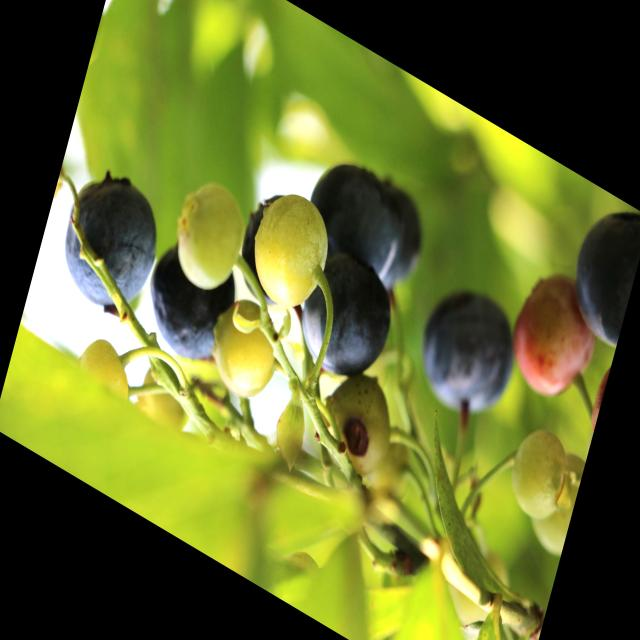blueberry: (406, 263, 529, 439), (53, 155, 167, 329), (292, 241, 404, 399), (298, 144, 414, 296), (135, 230, 240, 376), (558, 185, 640, 353)
blueberry-halfripe: (502, 257, 607, 414)
blueberry-unripe: (242, 176, 340, 326), (316, 364, 405, 491), (202, 285, 290, 413), (167, 171, 251, 303), (498, 411, 574, 529), (521, 438, 586, 561), (131, 358, 199, 444), (72, 328, 140, 411)
